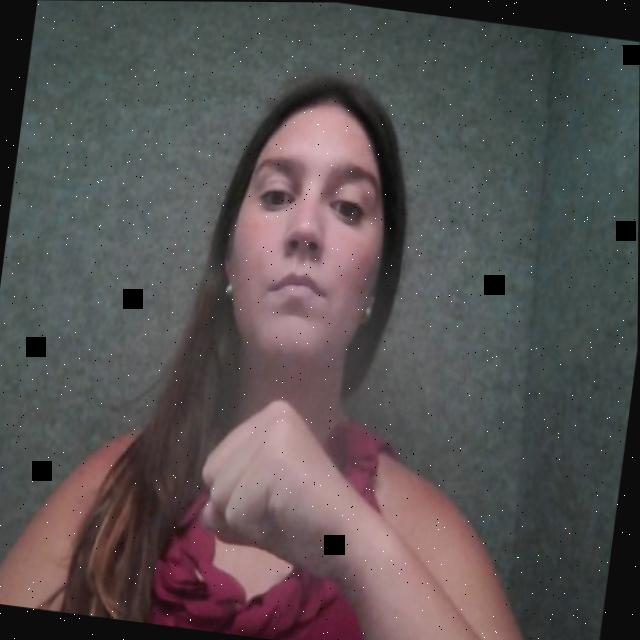Rock: (162, 368, 404, 620)
